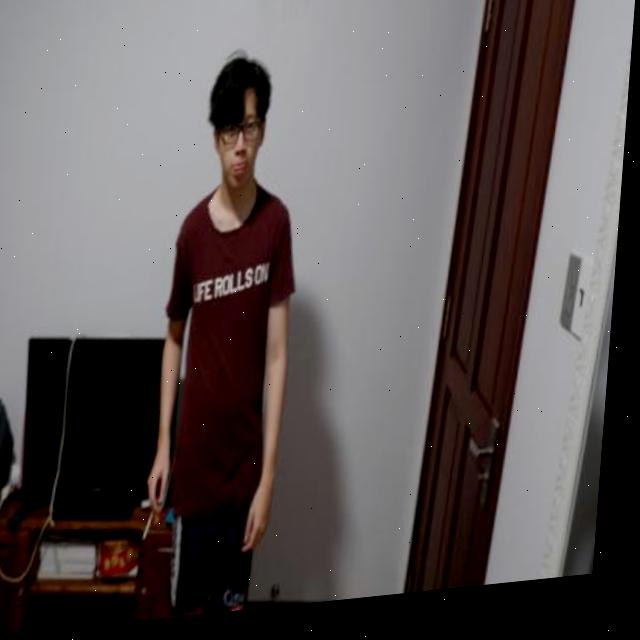cigarette: (150, 515, 162, 546)
